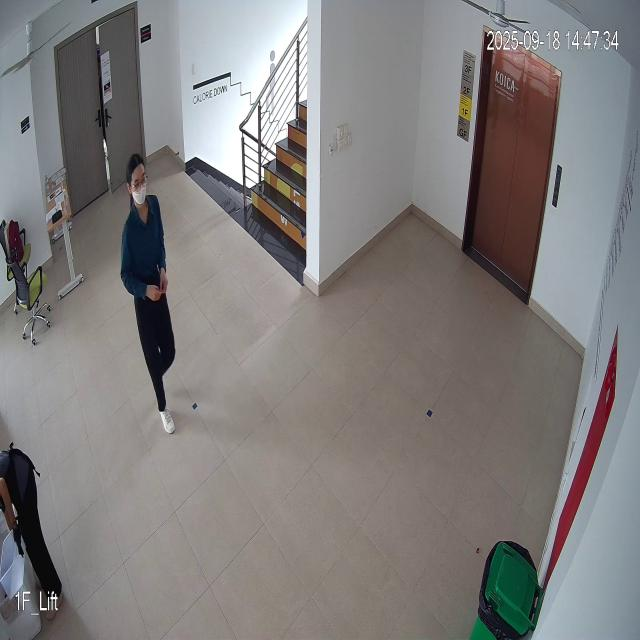face: (123, 153, 152, 210)
